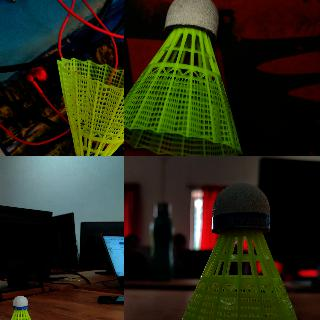shuttlecock: (166, 182, 312, 319), (124, 0, 242, 155), (55, 56, 123, 155), (3, 294, 40, 319)
